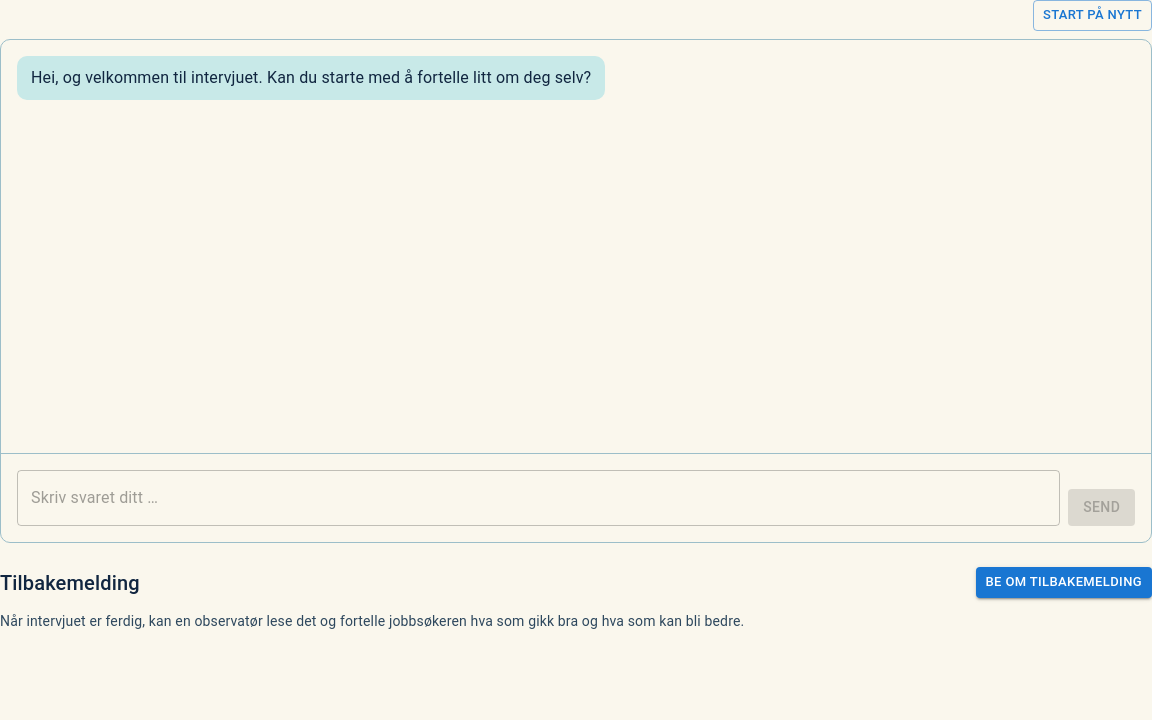
Scenario: TestChat › asks before starting over, and keeps the chat if cancelled
In the text box named "Melding": (539, 498) [31,486,1046,509], type "Jeg har jobbet i butikk i fem år."
Then press Enter
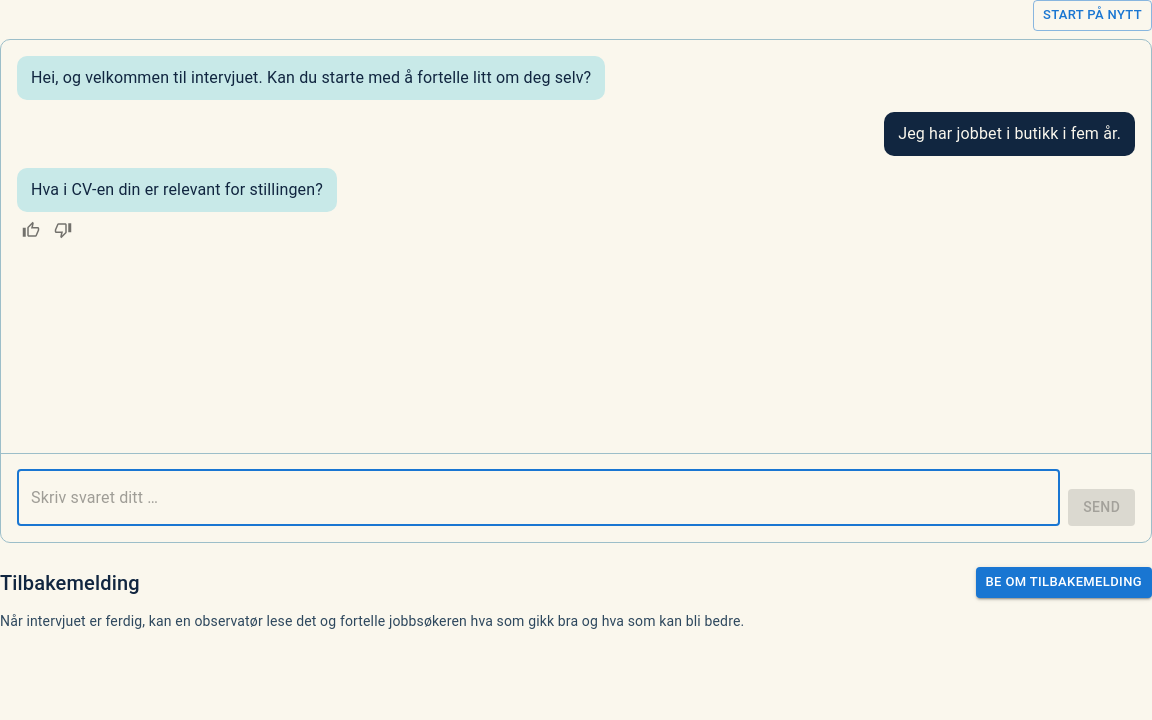
Now the list item "Hva i CV-en din er relevant for stillingen?" is shown, box [17,168,337,212]
Click the button "Start på nytt": click(1092, 15) [1033,0,1151,31]
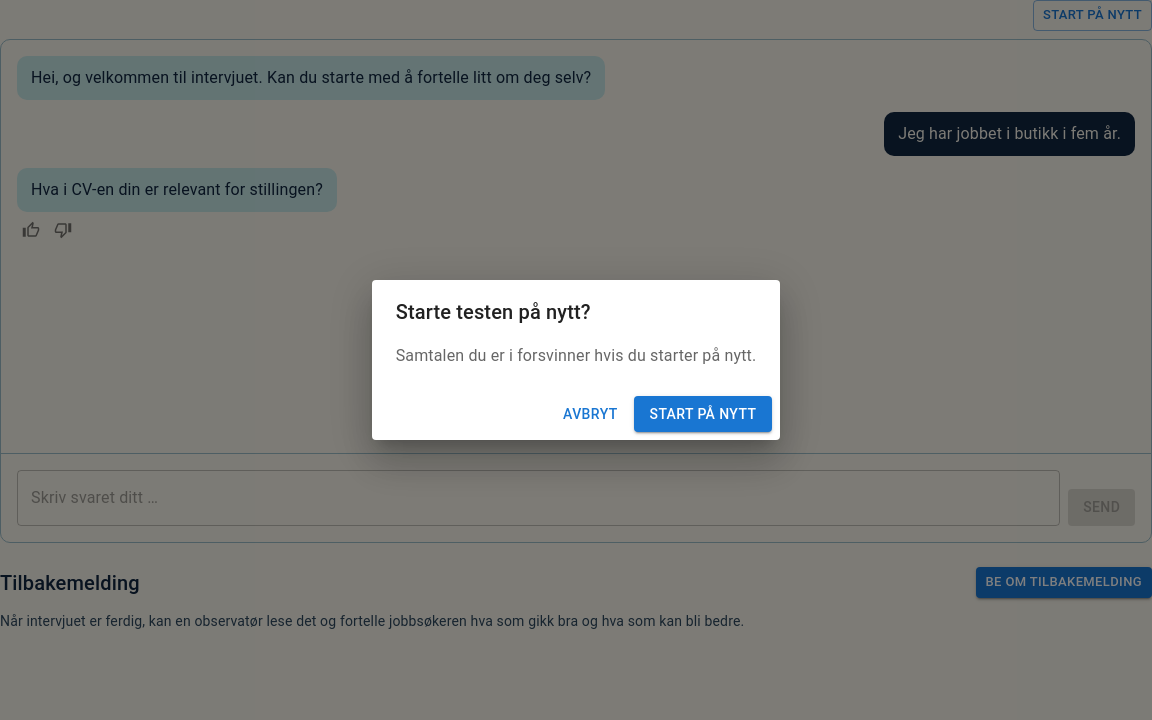
Now the dialog shows "Samtalen du er i forsvinner", box [396,346,756,365]
Click the button "Avbryt": click(590, 414) [555,396,626,432]
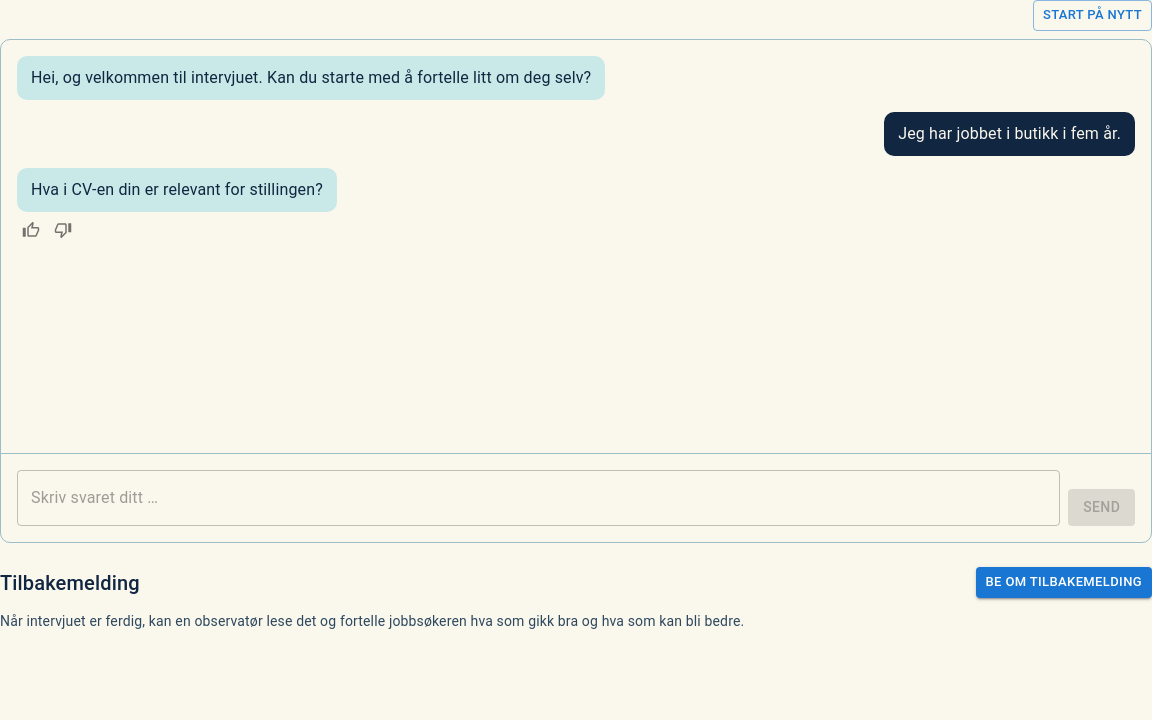
Now the list item "Jeg har jobbet i butikk i fem år." is shown, box [884,112,1135,156]
Now the list item "Hva i CV-en din er relevant for stillingen?" is shown, box [17,168,337,212]
Now the dialog is gone
